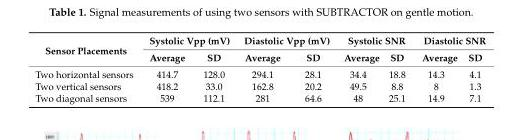table: (34, 34, 485, 103)
table column: (34, 34, 140, 103), (236, 34, 291, 103), (140, 34, 193, 103), (413, 34, 462, 103), (336, 34, 383, 103), (291, 34, 336, 103), (193, 34, 236, 103), (383, 34, 413, 103), (462, 34, 485, 103)
table column header: (34, 34, 485, 65)
table row: (34, 48, 485, 65), (34, 34, 485, 48), (34, 65, 485, 79), (34, 79, 485, 91), (34, 91, 485, 103)
table spanning cell: (34, 34, 140, 65), (236, 34, 336, 48), (140, 34, 236, 48), (336, 34, 413, 48), (413, 34, 485, 48)
